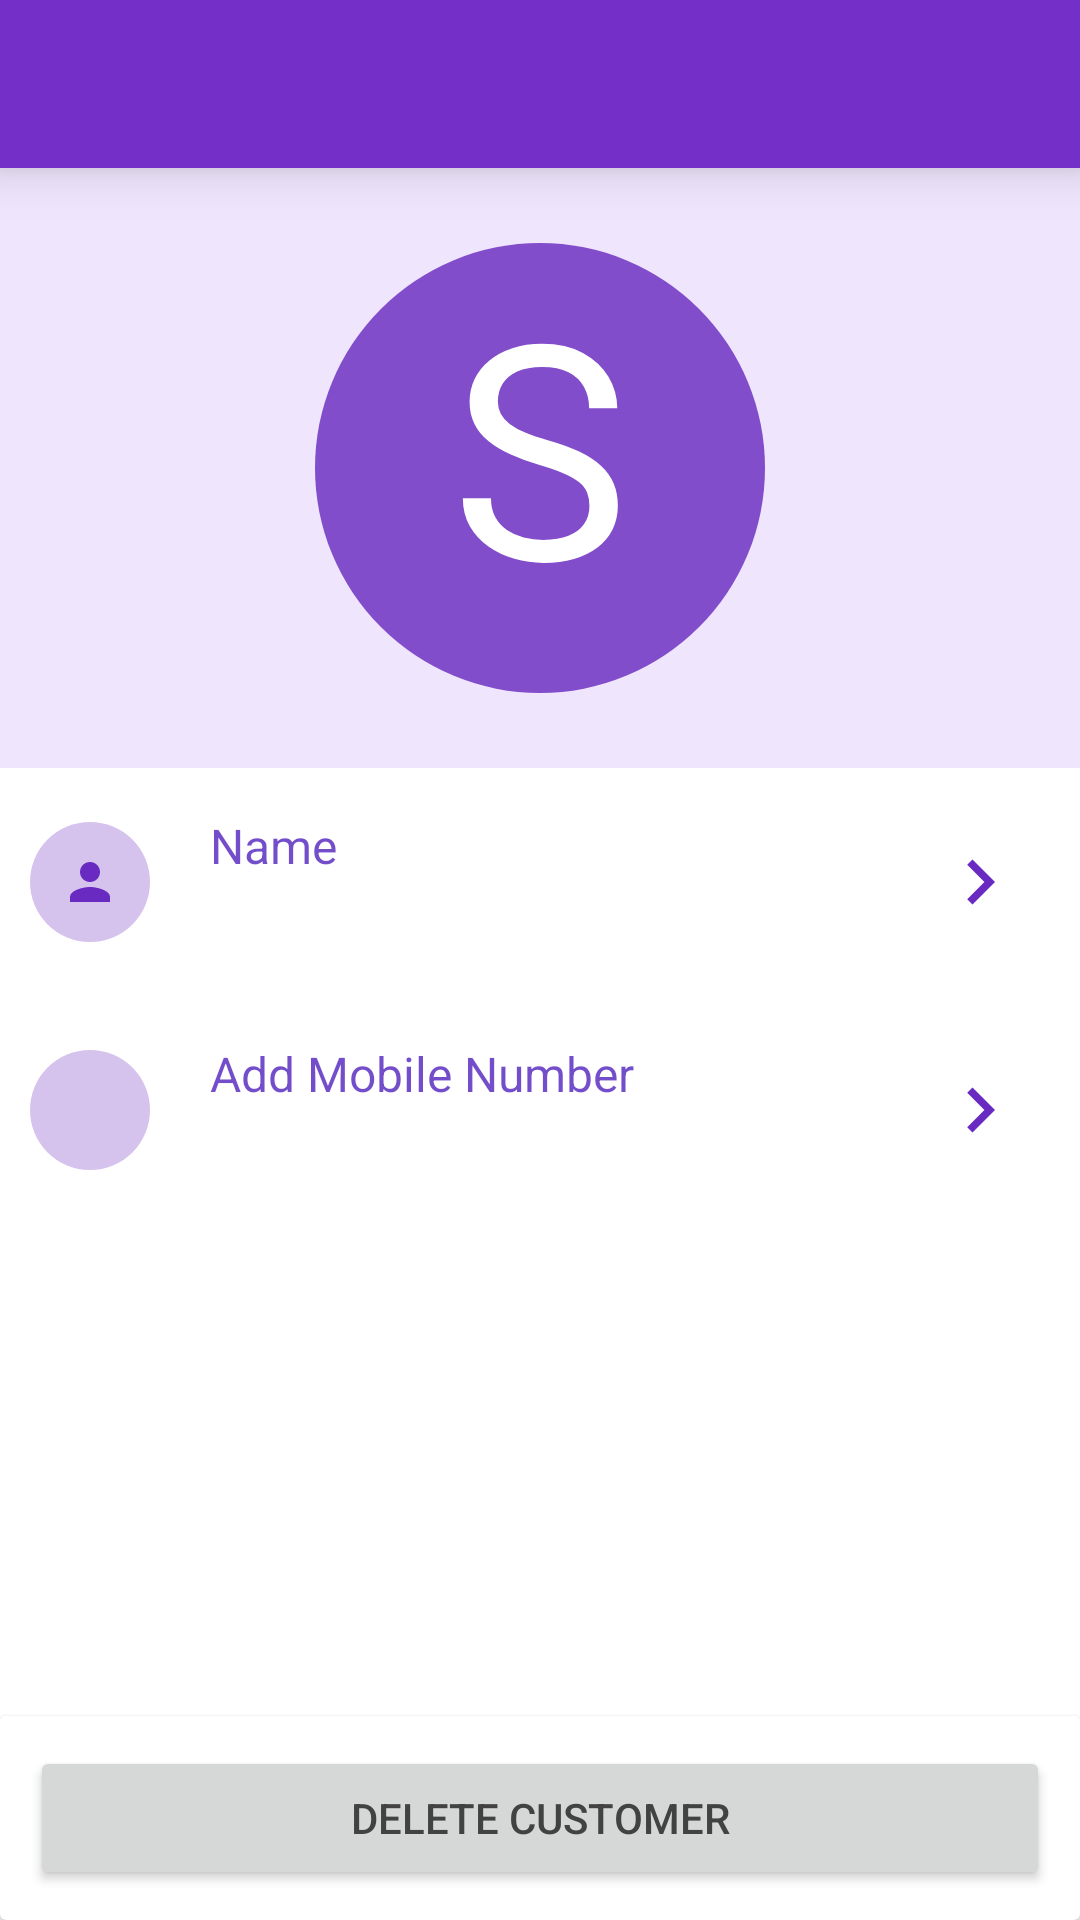

Named icons in this screenshot (1080*1920) and their bounding boxes, (x1, y1, x2, y2):
person: (30, 822, 150, 942)
right arrow: (967, 859, 995, 905), (967, 1087, 995, 1133)
